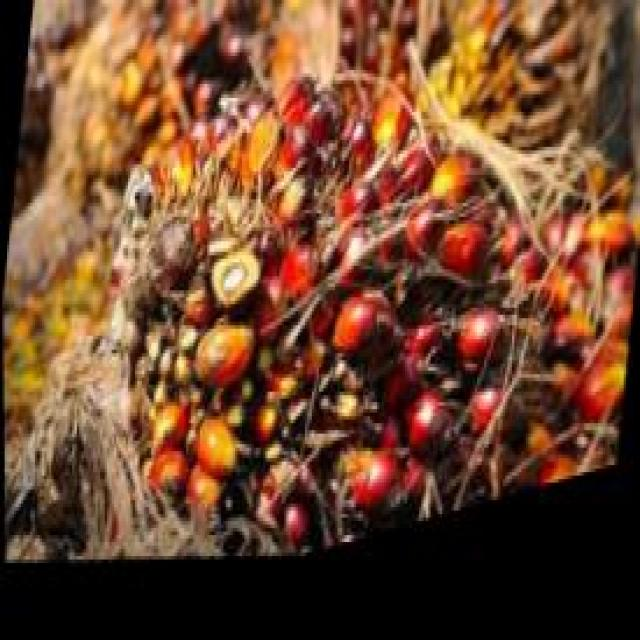Ripefruit: (65, 0, 640, 626)
